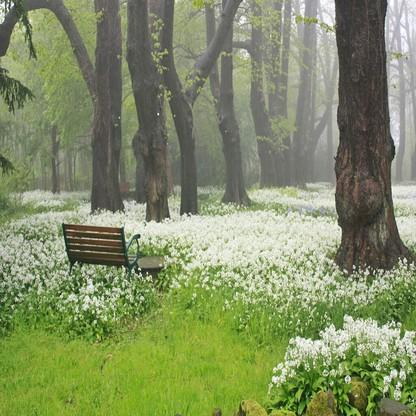obstacle: (54, 225, 169, 289)
